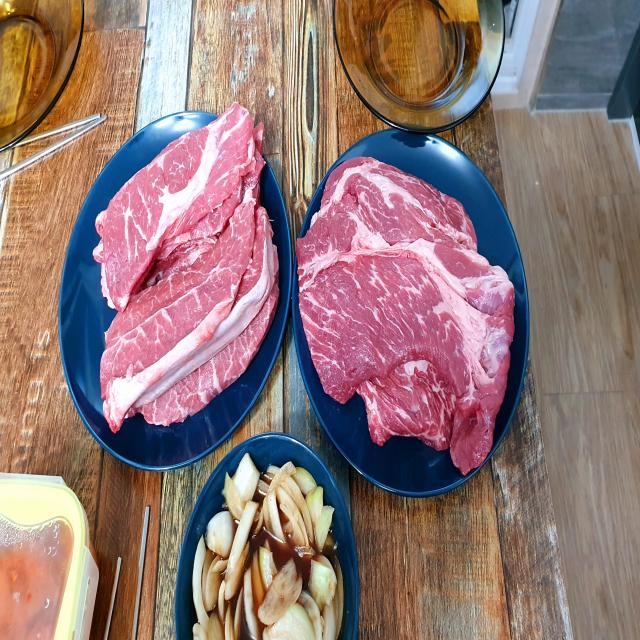beef: (325, 177, 485, 430), (110, 143, 264, 389)
